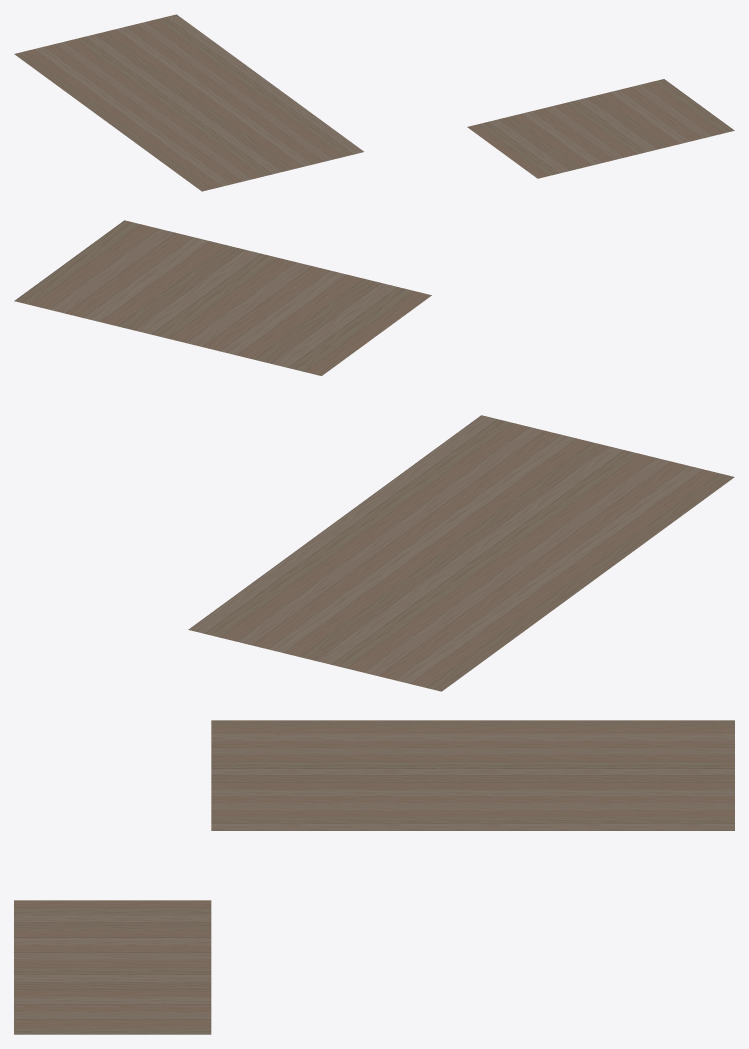
File: kd_stage_135c43_4_21.glb
3 views of the same model, one above another, from view 1: azimuth 30°, elevation 25°; view 2: azimuth 150°, elevation 25°; view 3: azimuth 270°, elevation 25° (orthographic). The views are drawn at different scales.
Parts seen in each view (by area): view 1: kd_stage_135c43_4_21; view 2: kd_stage_135c43_4_21; view 3: kd_stage_135c43_4_21.
Part boxes in pixels (x1=…): kd_stage_135c43_4_21: x1=14, y1=14, x2=734, y2=191; kd_stage_135c43_4_21: x1=14, y1=220, x2=734, y2=691; kd_stage_135c43_4_21: x1=14, y1=720, x2=734, y2=1034.
Bounding box in the file's own units: 5.4 × 0.000136 × 5.23.
1 material, 1 textured.
